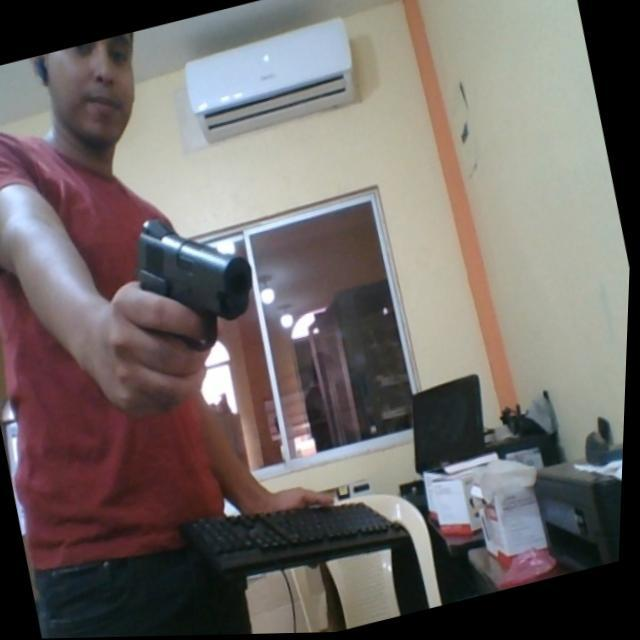weapon: (121, 194, 272, 366)
